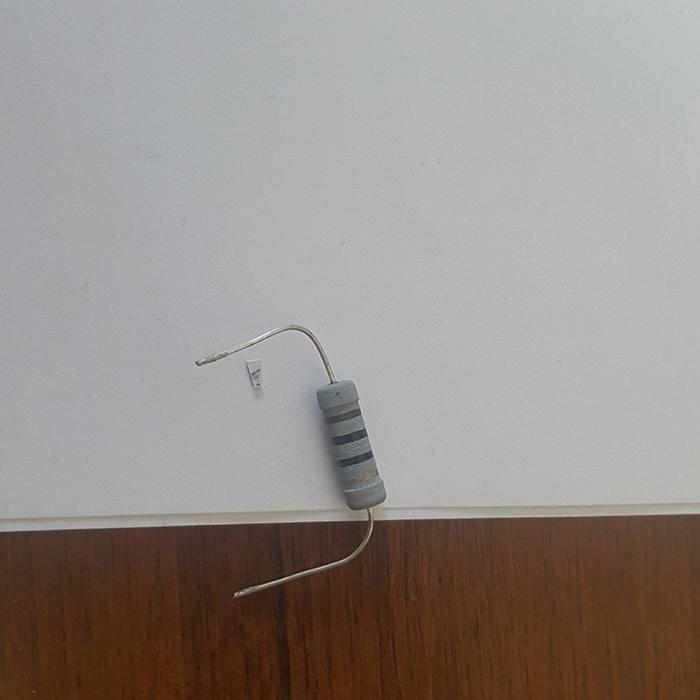resistor: (315, 376, 386, 508)
